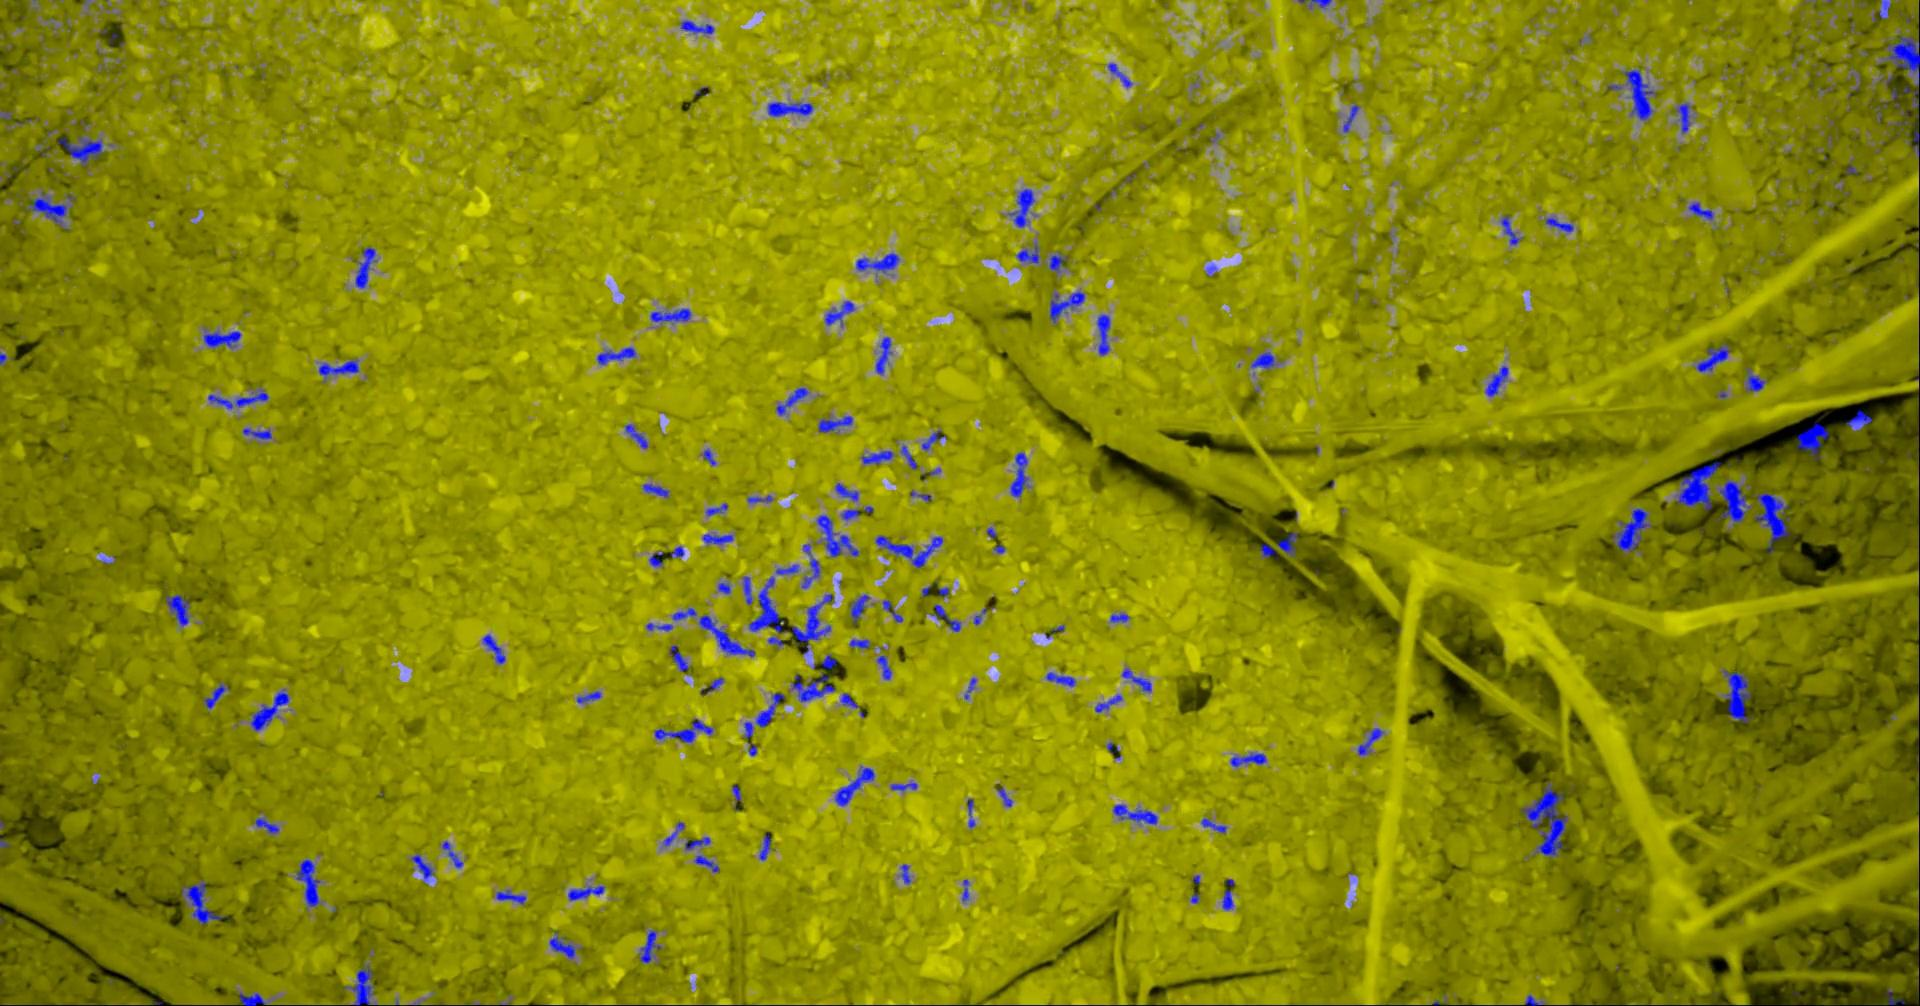ant: (744, 692, 783, 754), (791, 593, 832, 653), (698, 614, 754, 655), (1752, 492, 1790, 553), (748, 575, 786, 633), (875, 535, 942, 567), (182, 879, 229, 923), (1676, 461, 1719, 509), (817, 514, 858, 556), (1716, 478, 1751, 525), (1613, 508, 1651, 551), (1623, 69, 1655, 119), (250, 688, 288, 730), (1722, 669, 1752, 721), (834, 766, 874, 805), (654, 718, 712, 742), (25, 191, 67, 224), (57, 136, 102, 165), (791, 672, 834, 701), (1796, 420, 1829, 459), (343, 964, 373, 1005), (295, 859, 320, 906), (1049, 290, 1084, 323), (1007, 188, 1034, 227), (207, 391, 268, 408), (1697, 343, 1730, 371), (775, 387, 808, 415), (354, 246, 376, 288), (855, 251, 899, 272), (1112, 804, 1157, 824), (317, 359, 358, 381), (801, 542, 820, 588), (1010, 452, 1029, 495), (824, 300, 855, 326), (931, 605, 960, 631), (1484, 365, 1509, 396), (165, 594, 189, 626), (1356, 727, 1383, 754), (549, 931, 575, 958), (596, 347, 635, 365), (483, 634, 505, 664), (410, 854, 433, 884), (639, 930, 660, 962), (1500, 215, 1523, 244), (1121, 668, 1150, 691), (649, 307, 691, 323), (767, 102, 811, 116), (203, 683, 229, 708), (203, 330, 240, 347), (875, 337, 891, 373), (817, 415, 852, 432), (623, 424, 648, 448), (850, 594, 869, 625), (441, 841, 462, 868), (1096, 314, 1110, 354), (568, 885, 604, 901), (1107, 64, 1131, 86), (662, 821, 684, 845), (1845, 409, 1870, 431), (1895, 102, 1911, 135), (921, 429, 946, 450), (1276, 531, 1297, 556), (1095, 695, 1123, 713), (1230, 752, 1266, 766), (1745, 367, 1765, 391), (669, 645, 688, 671), (1016, 243, 1039, 263), (1045, 671, 1076, 686), (495, 889, 526, 904), (834, 481, 858, 500), (1676, 102, 1690, 133), (861, 450, 893, 464), (883, 600, 902, 622), (1250, 351, 1274, 368), (693, 854, 717, 871), (1342, 104, 1357, 132), (1688, 202, 1713, 218), (1872, 0, 1891, 22), (1544, 217, 1573, 231), (681, 20, 712, 33), (1222, 878, 1234, 909), (255, 817, 279, 833), (1048, 251, 1067, 272), (700, 677, 723, 694), (900, 445, 916, 469), (876, 655, 891, 680), (1906, 130, 1919, 158), (243, 427, 270, 439), (1200, 818, 1225, 832), (237, 992, 265, 1005), (641, 483, 668, 495), (1884, 987, 1903, 1005), (684, 836, 710, 848), (701, 533, 731, 544), (758, 833, 770, 860), (963, 677, 977, 699), (1260, 542, 1277, 559), (997, 788, 1012, 807), (672, 607, 696, 619), (841, 692, 858, 708), (1297, 0, 1331, 8), (705, 503, 728, 514), (577, 691, 599, 702), (742, 575, 750, 605), (966, 798, 975, 827), (889, 782, 917, 791), (648, 551, 663, 567), (775, 564, 797, 574), (822, 654, 836, 669), (900, 862, 910, 883), (645, 622, 672, 630), (747, 494, 772, 502), (703, 448, 715, 465), (841, 509, 858, 520), (1109, 614, 1129, 622), (850, 639, 870, 648), (1523, 995, 1539, 1005), (670, 545, 683, 558), (731, 784, 740, 801), (717, 582, 730, 593), (961, 879, 968, 901)
